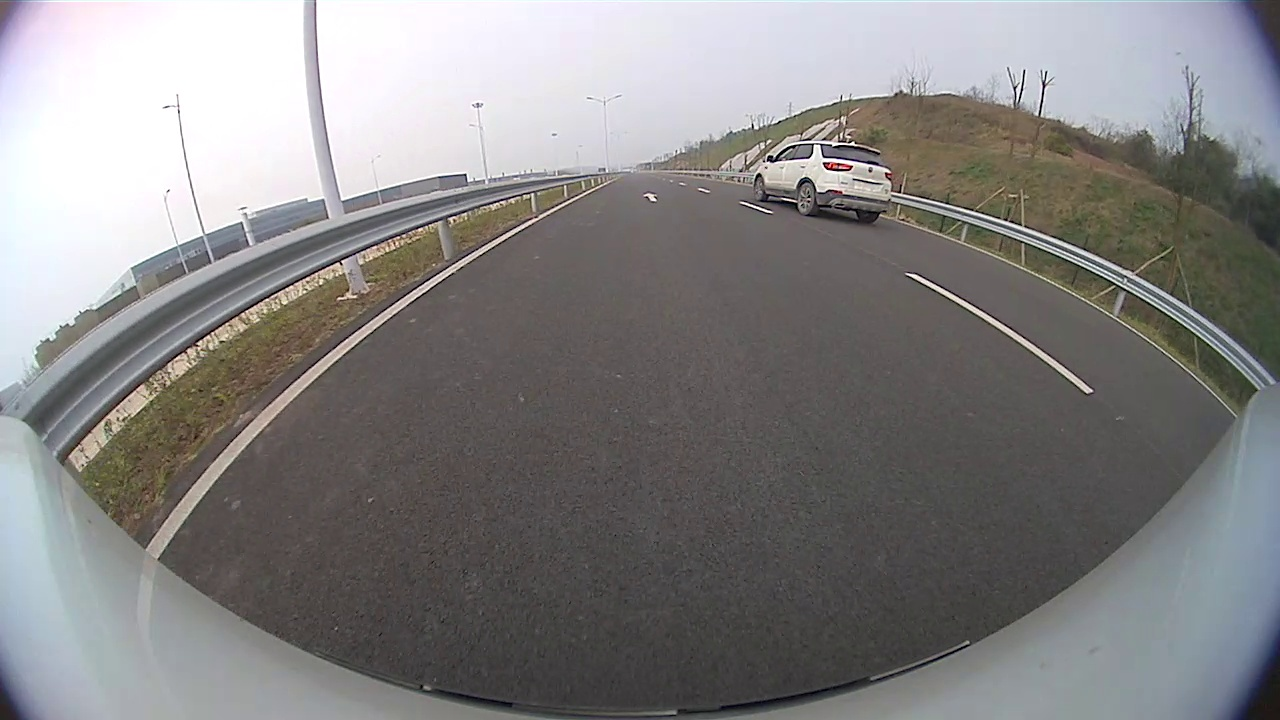car: (751, 139, 895, 225)
front: (752, 175, 769, 204)
rear: (796, 181, 821, 217)
